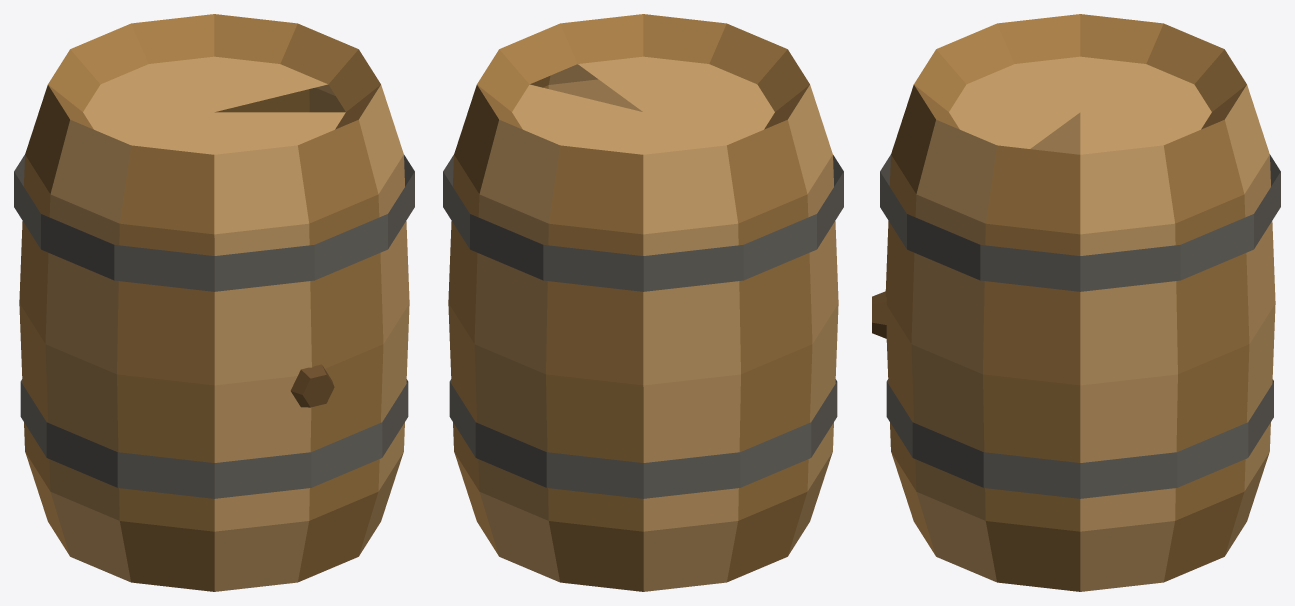
File: BarrelWood.fbx
3 views of the same model, side by side, from view 1: azimuth 30°, elevation 25°; view 2: azimuth 150°, elevation 25°; view 3: azimuth 270°, elevation 25° (orthographic).
Visible parts, largest first — view 1: BarrelWood; view 2: BarrelWood; view 3: BarrelWood.
Boxes of the visible parts, left/top/right/bottom form: BarrelWood: left=14, top=14, right=414, bottom=591; BarrelWood: left=443, top=14, right=843, bottom=591; BarrelWood: left=872, top=14, right=1280, bottom=591.
Size of the model in its own units: 91.4 by 110 by 93.2.
